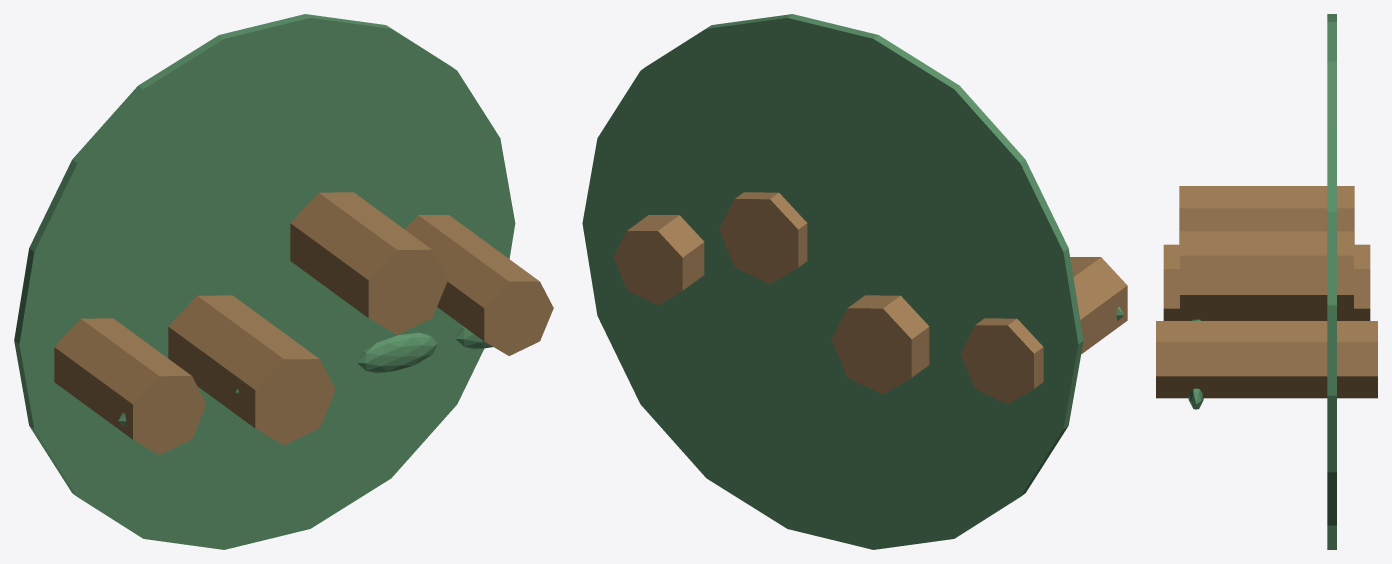
File: 02_display_prop_cluster.glb
3 views of the same model, side by side, from view 1: azimuth 30°, elevation 25°; view 2: azimuth 150°, elevation 25°; view 3: azimuth 270°, elevation 25° (orthographic). The views are drawn at different scales.
Visible parts, largest first — view 1: scatter_base, root_stump_1, root_stump_2, root_stump_0, root_stump_3, moss_2; view 2: scatter_base, root_stump_0, root_stump_1, root_stump_2, root_stump_3; view 3: root_stump_3, root_stump_2, root_stump_0, scatter_base, root_stump_1.
Part boxes in pixels (left/top/right/bottom): scatter_base: left=14, top=14, right=515, bottom=549; root_stump_1: left=168, top=295, right=335, bottom=445; root_stump_2: left=290, top=192, right=447, bottom=334; root_stump_0: left=54, top=318, right=206, bottom=455; root_stump_3: left=405, top=215, right=553, bottom=355; moss_2: left=357, top=332, right=437, bottom=373; scatter_base: left=582, top=14, right=1083, bottom=549; root_stump_0: left=960, top=257, right=1127, bottom=404; root_stump_1: left=831, top=295, right=929, bottom=394; root_stump_2: left=719, top=192, right=807, bottom=283; root_stump_3: left=613, top=215, right=704, bottom=305; root_stump_3: left=1156, top=321, right=1377, bottom=398; root_stump_2: left=1180, top=231, right=1353, bottom=319; root_stump_0: left=1179, top=186, right=1354, bottom=244; scatter_base: left=1327, top=14, right=1336, bottom=549; root_stump_1: left=1163, top=244, right=1370, bottom=320.
Bounding box in the file's own units: 1.9 × 1.87 × 0.7835.
